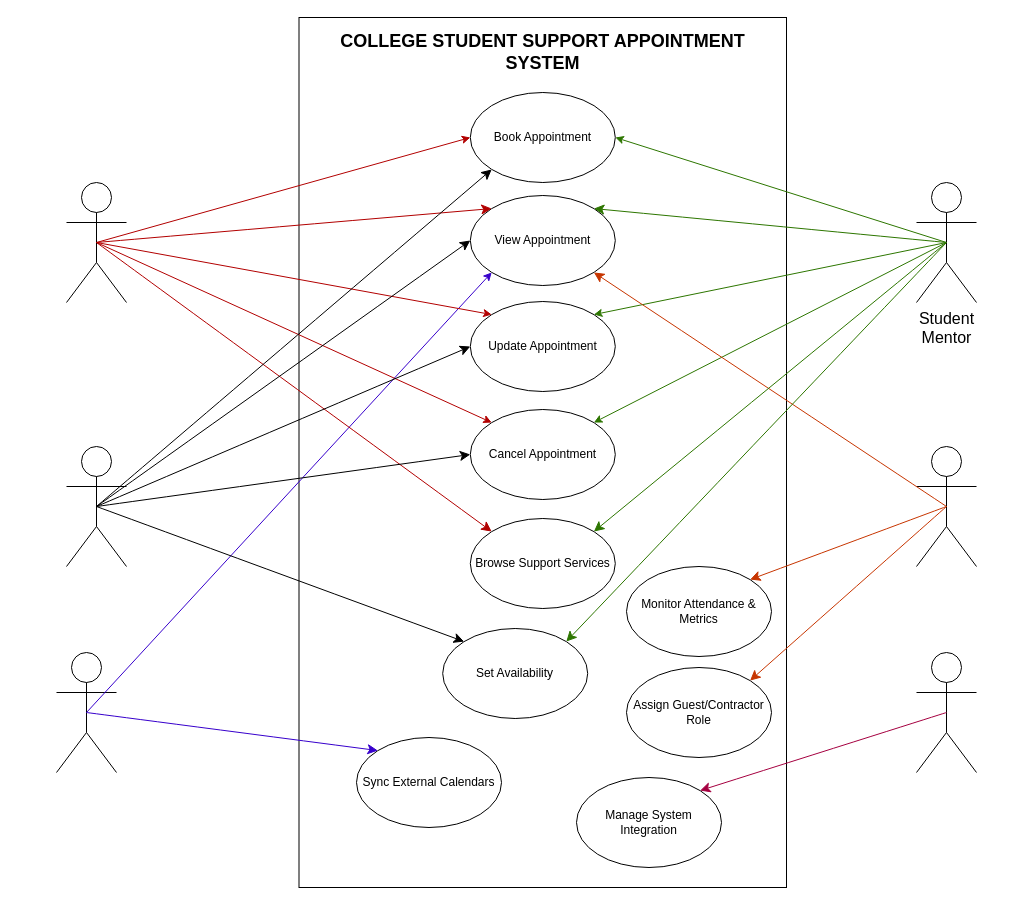
This 1032x905 diagram has some shape labels left out. Here are the shapes that lost their labels. From the top down, the box of each, then its label:
(66, 182, 126, 302): Student
(66, 446, 126, 566): Staff
(916, 446, 976, 566): Administrative Staff
(56, 652, 116, 772): External Contractor
(916, 652, 976, 772): IT/Technician
